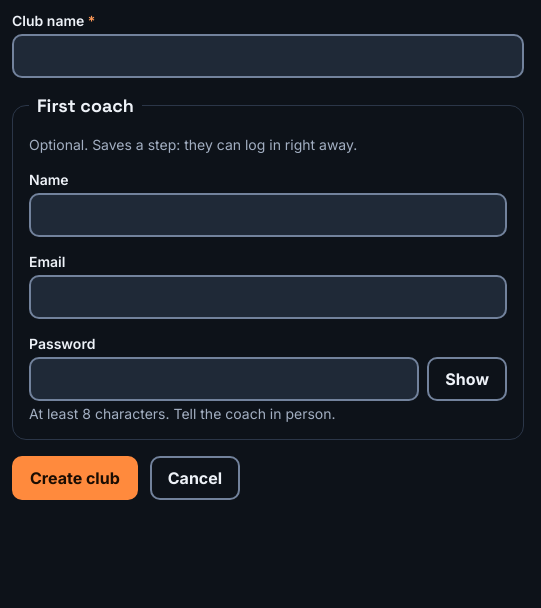
CreateClubForm › focuses the coach field when the club name is fine
Click the button "Create club" at (75, 478), box [12,456,138,500]
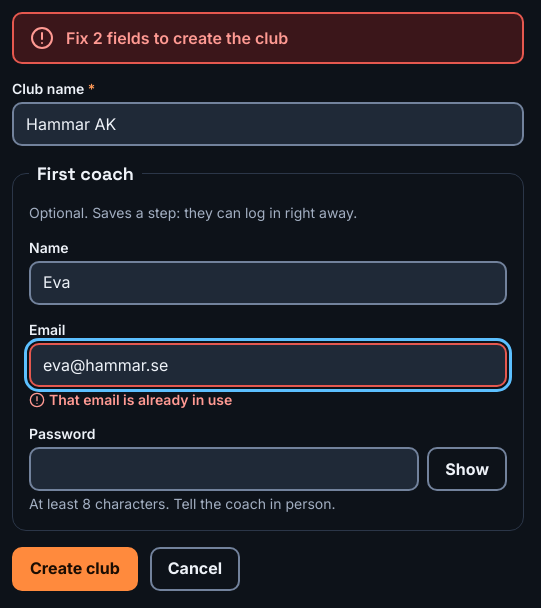
Expected: the message "Fix 2 fields to create the club" is shown, [12,12,524,64]
